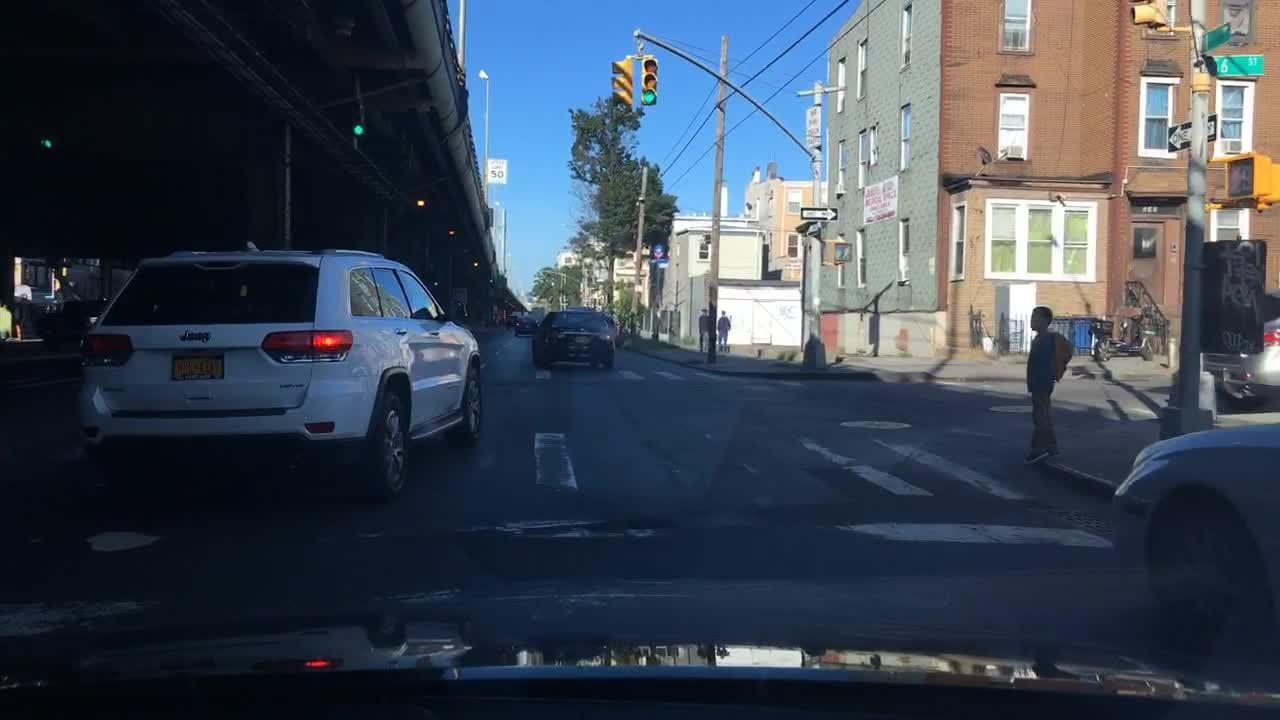jeep: (175, 327, 215, 346)
